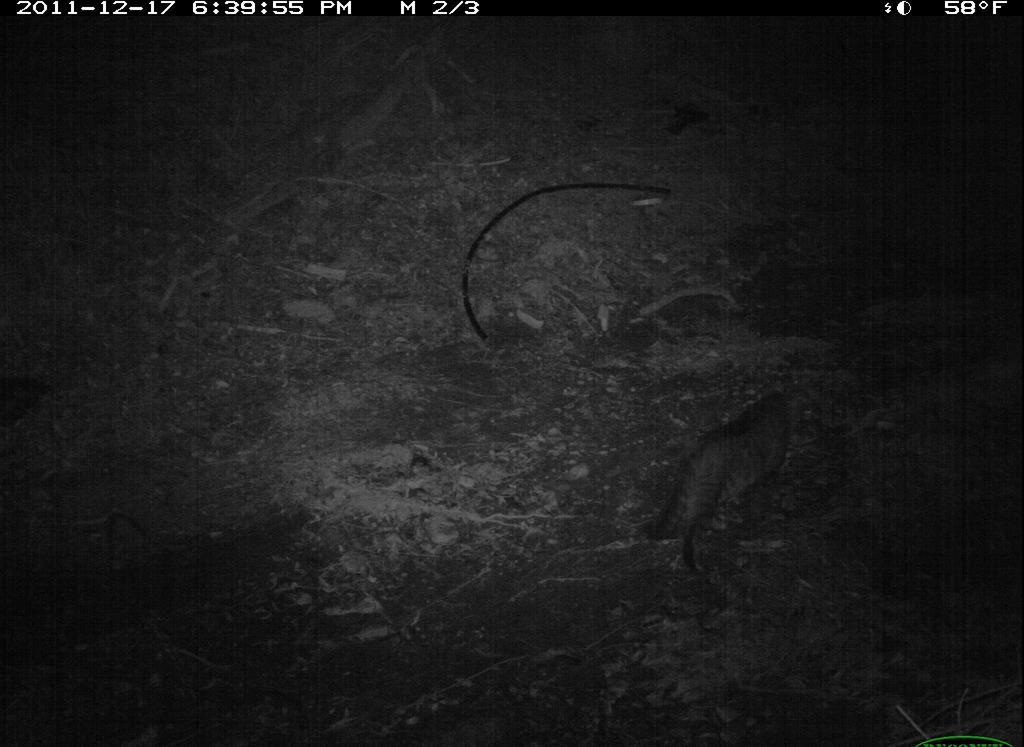cat: (646, 370, 827, 580)
